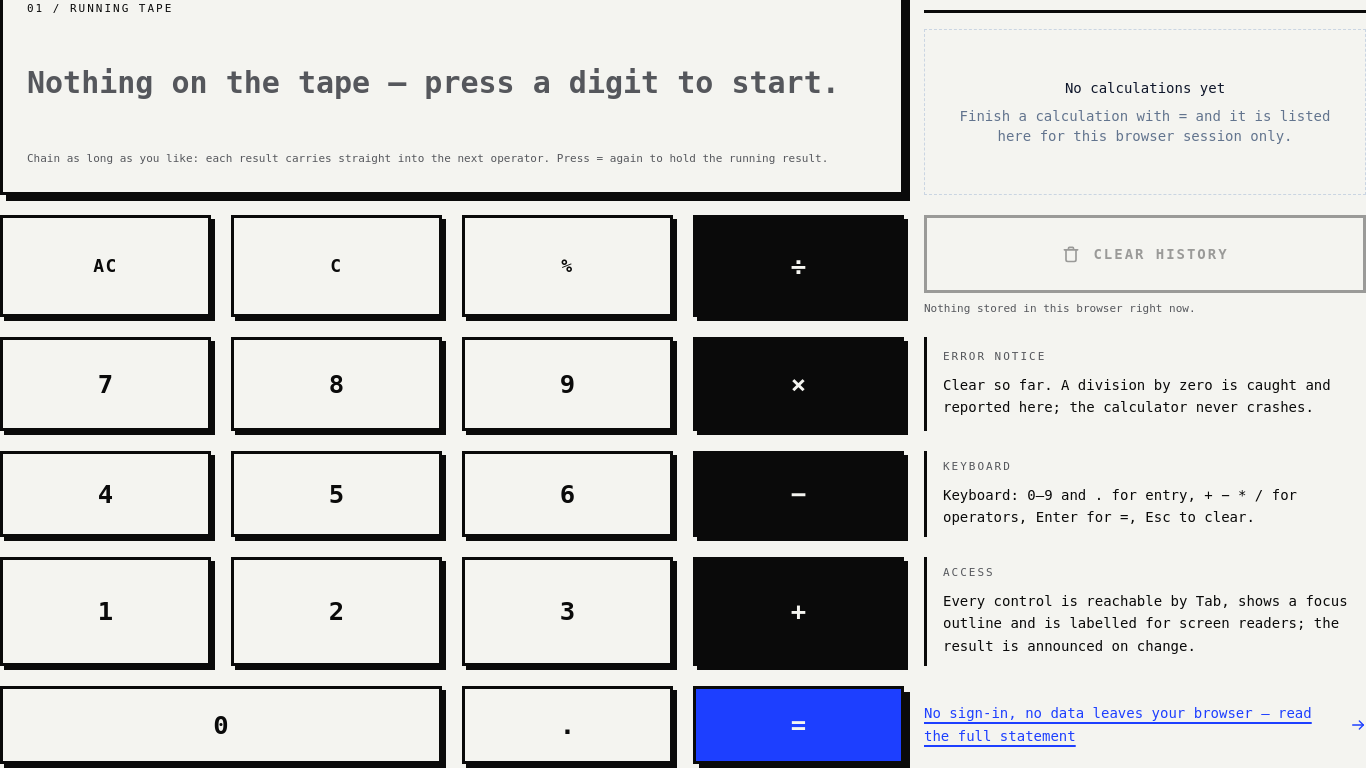
Test: Calculator screen › [AC-013] tapping on-screen digit, operator and equals buttons performs the calculation and updates the display
(page scrolled)
What coordinates should you click on to do the following:
click the button "7"
I would click on:
 (106, 384)
Its box is [0,337,211,431].
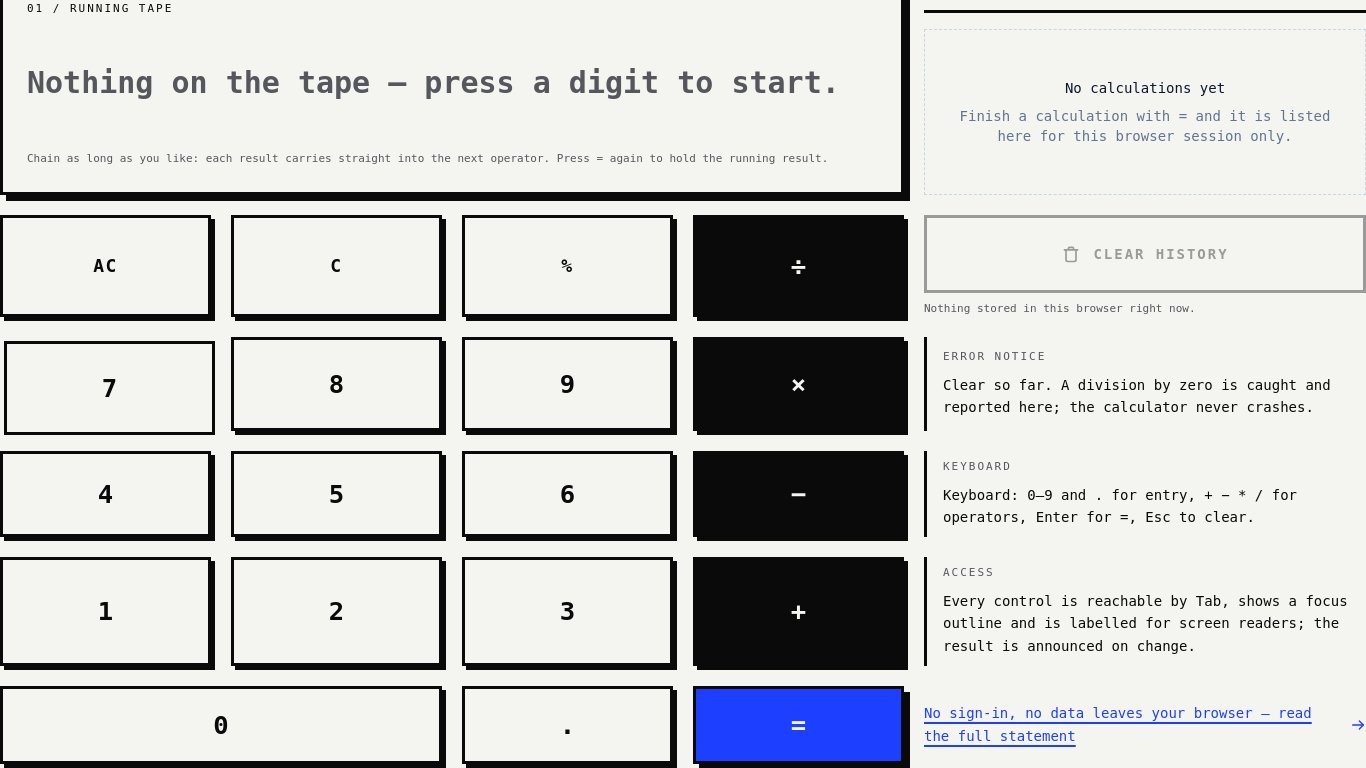
What coordinates should you click on to do the following:
click the button "×"
I would click on:
 (798, 384)
Its box is [693,337,904,431].
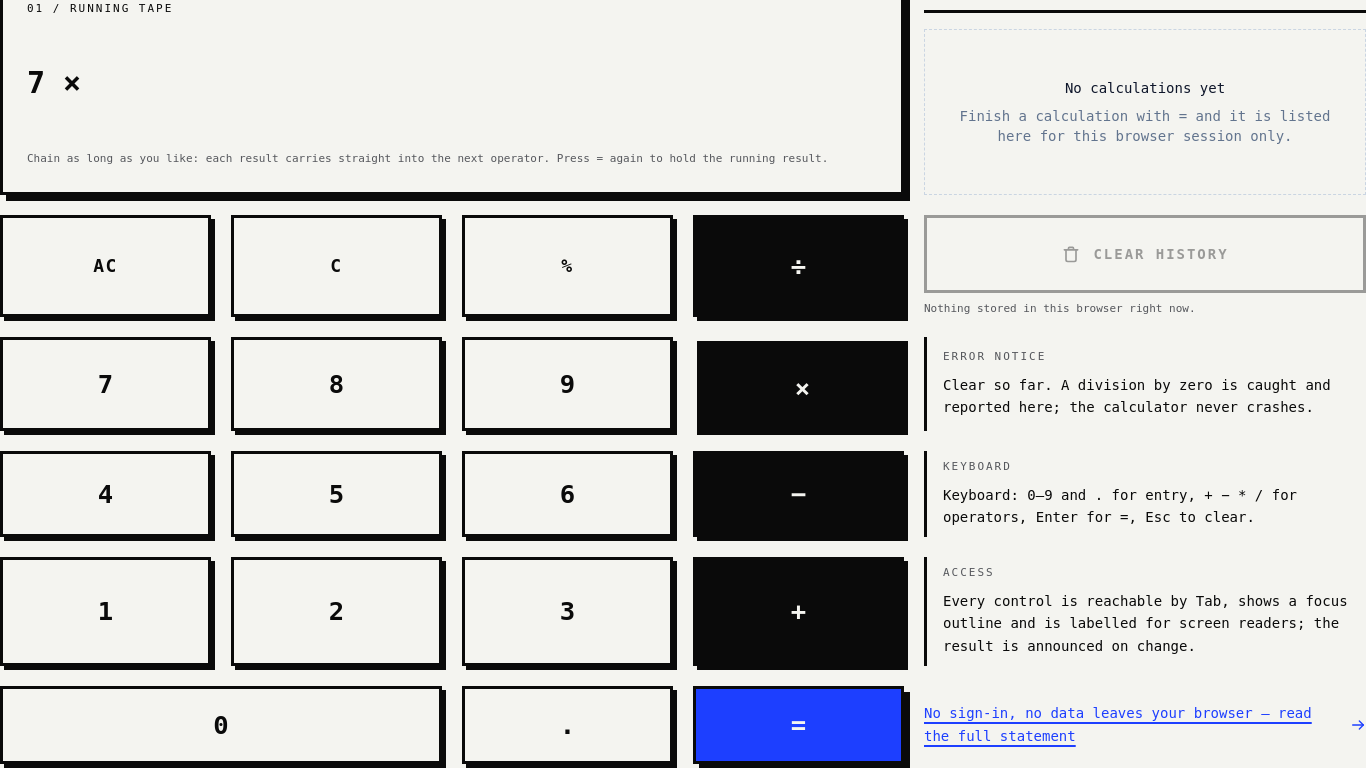
What coordinates should you click on to do the following:
click the button "8"
I would click on:
 (336, 384)
Its box is [231,337,442,431].
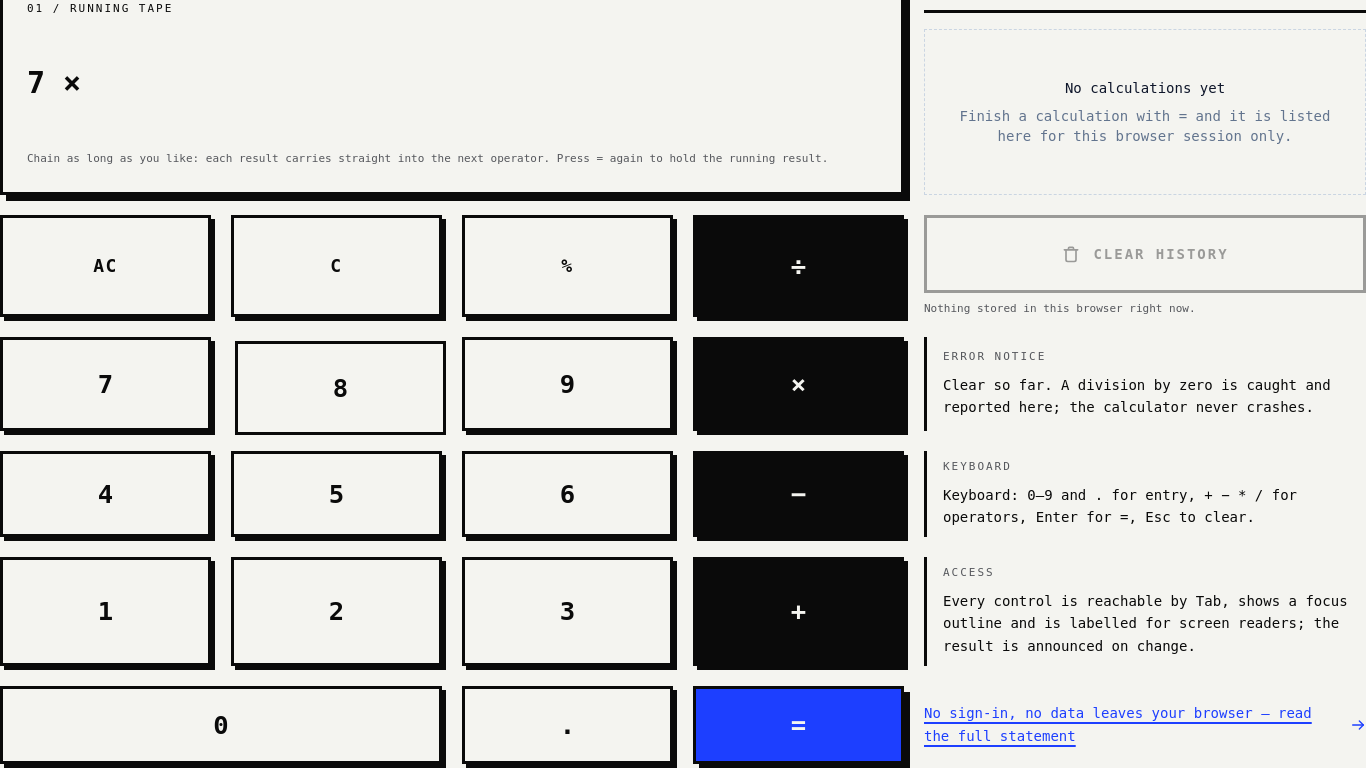
What coordinates should you click on to do the following:
click the button "="
I would click on:
 (798, 725)
Its box is [693,686,904,764].
(page scrolled)
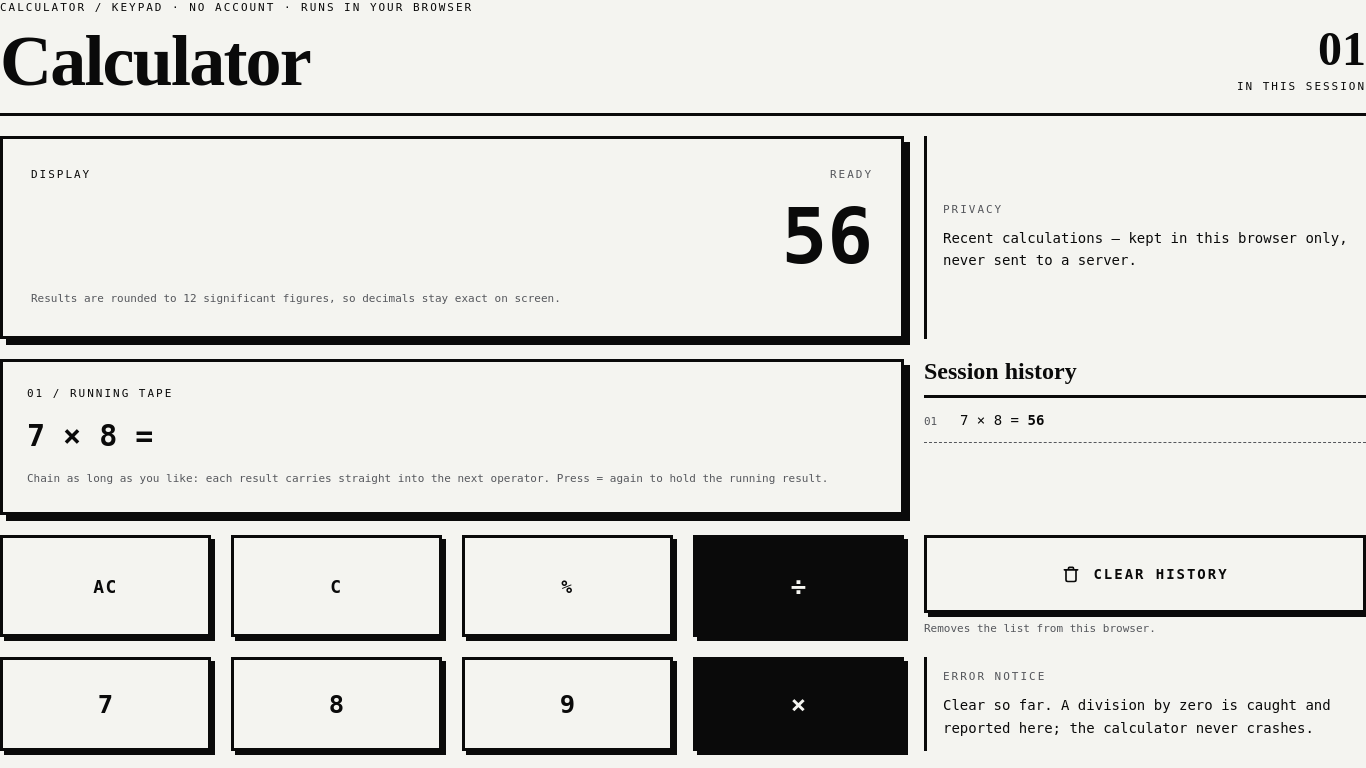
Expected: the text "56" below "Display" is shown, [782,192,873,281]
